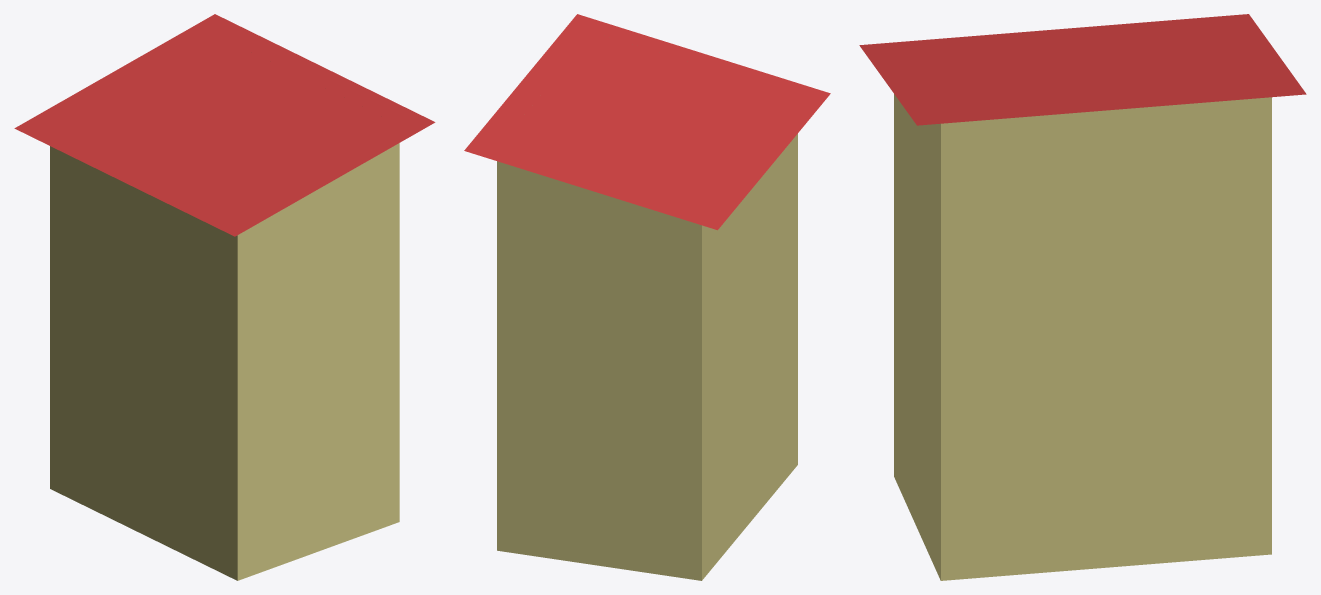
The picture shows the model from 3 angles, left to right: view 1: azimuth 30°, elevation 25°; view 2: azimuth 150°, elevation 25°; view 3: azimuth 270°, elevation 25°; orthographic projection. The views are drawn at different scales.
Size of the model in its own units: 6.35 by 7.49 by 8.68.
